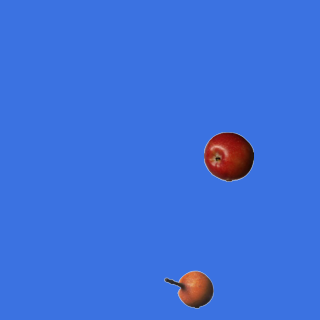Apple Braeburn: (203, 131, 253, 181)
Granadilla: (163, 264, 213, 314)
